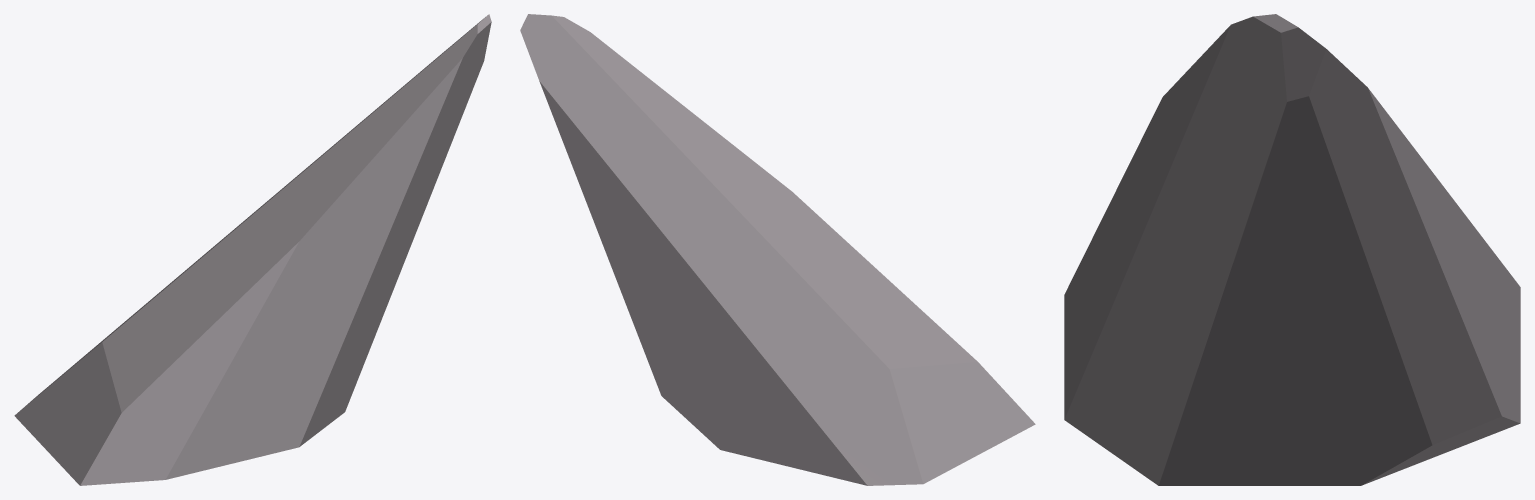
File: Rock_Sharp_m_10.fbx
3 views of the same model, side by side, from view 1: azimuth 30°, elevation 25°; view 2: azimuth 150°, elevation 25°; view 3: azimuth 270°, elevation 25° (orthographic). The views are drawn at different scales.
Parts seen in each view (by area): view 1: Rock_Sharp_m_10; view 2: Rock_Sharp_m_10; view 3: Rock_Sharp_m_10.
Part boxes in pixels (x1=…): Rock_Sharp_m_10: x1=14, y1=14, x2=491, y2=485; Rock_Sharp_m_10: x1=520, y1=14, x2=1035, y2=485; Rock_Sharp_m_10: x1=1064, y1=14, x2=1520, y2=485.
Size of the model in its own units: 199 by 137 by 90.
